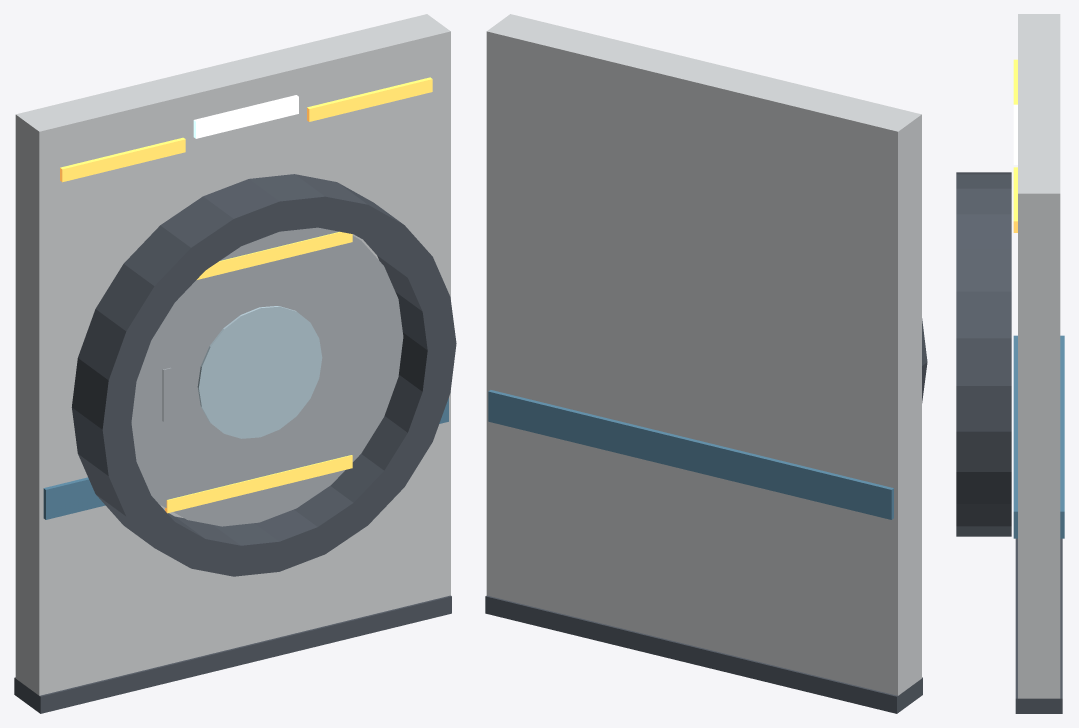
The model's file is spaceship-deck-kit-escape-pod-hatch-63c0e56a__12596.glb.
3 renders of one model, left to right at view 1: azimuth 30°, elevation 25°; view 2: azimuth 150°, elevation 25°; view 3: azimuth 270°, elevation 25°, orthographic. The views are drawn at different scales.
Parts seen in each view (by area): view 1: escape-pod-hatch, pod-hatch/steel, pod-hatch/glass, pod-hatch/accent; view 2: escape-pod-hatch; view 3: escape-pod-hatch.
Part boxes in pixels (box(x1,y1,x2,y2)): escape-pod-hatch: box(14, 14, 456, 713); pod-hatch/steel: box(131, 227, 403, 526); pod-hatch/glass: box(197, 306, 322, 438); pod-hatch/accent: box(165, 231, 352, 513); escape-pod-hatch: box(485, 14, 927, 713); escape-pod-hatch: box(956, 14, 1064, 713).
Bounding box in the file's own units: 2 × 2.7 × 0.5099.
